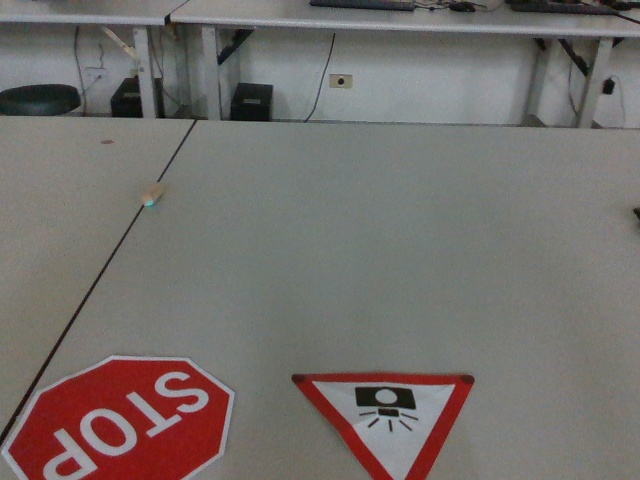camera: (288, 367, 477, 480)
stop: (4, 357, 238, 480)
